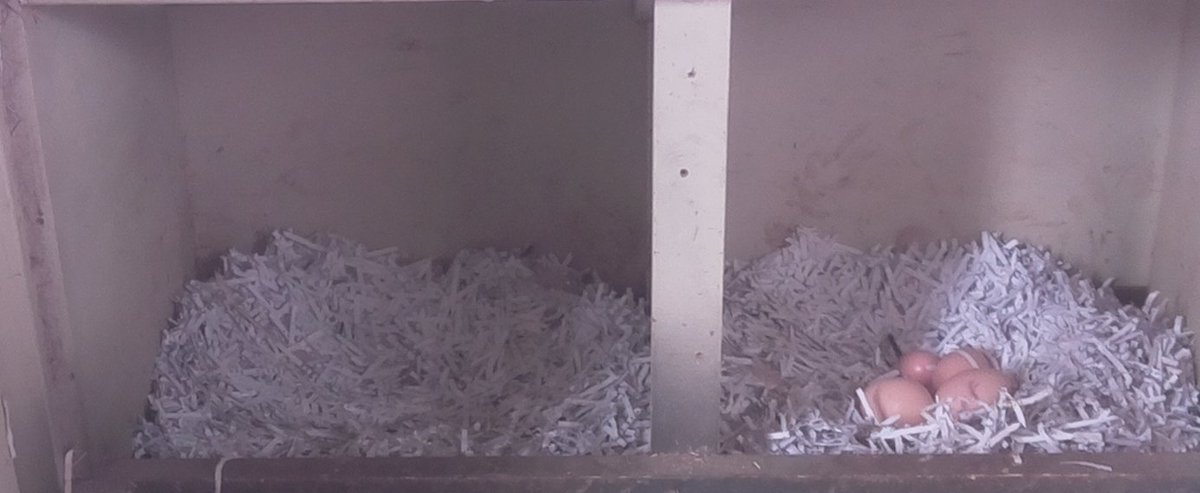egg: (856, 374, 935, 435), (939, 365, 1015, 421), (896, 348, 947, 387), (934, 348, 997, 376)
